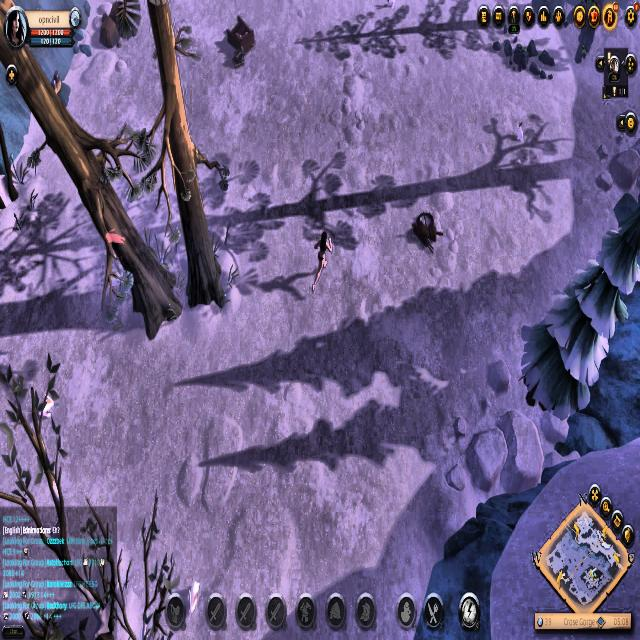copper_ore: (52, 69, 72, 105)
cotton: (2, 486, 41, 527)
